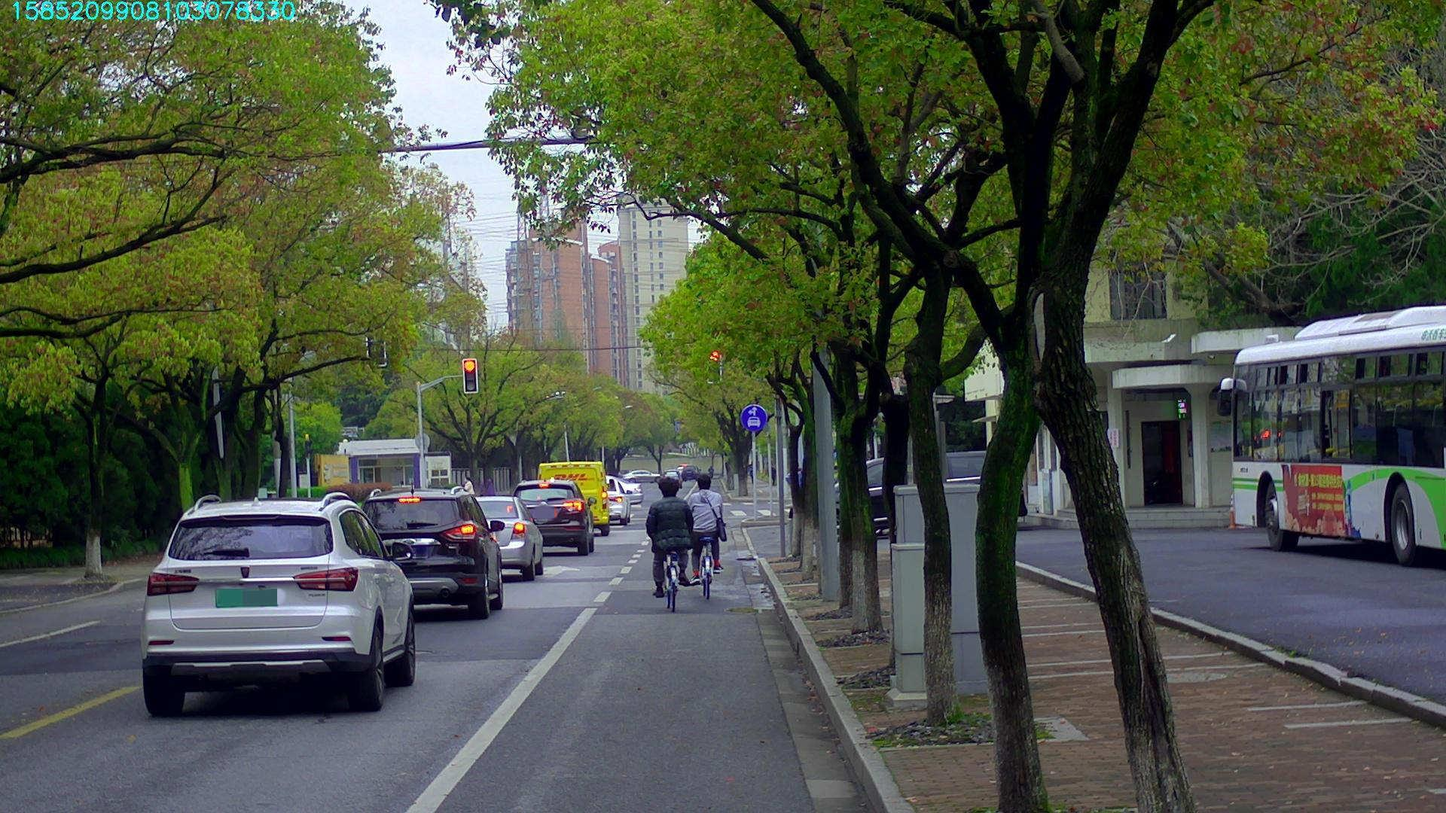red: (706, 346, 719, 382), (463, 358, 476, 392)
